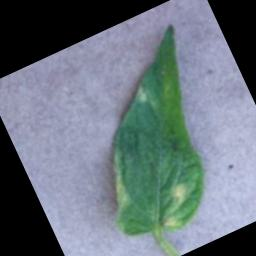Leaf_Mold: (167, 180, 193, 206), (130, 81, 151, 105), (160, 212, 182, 233)
